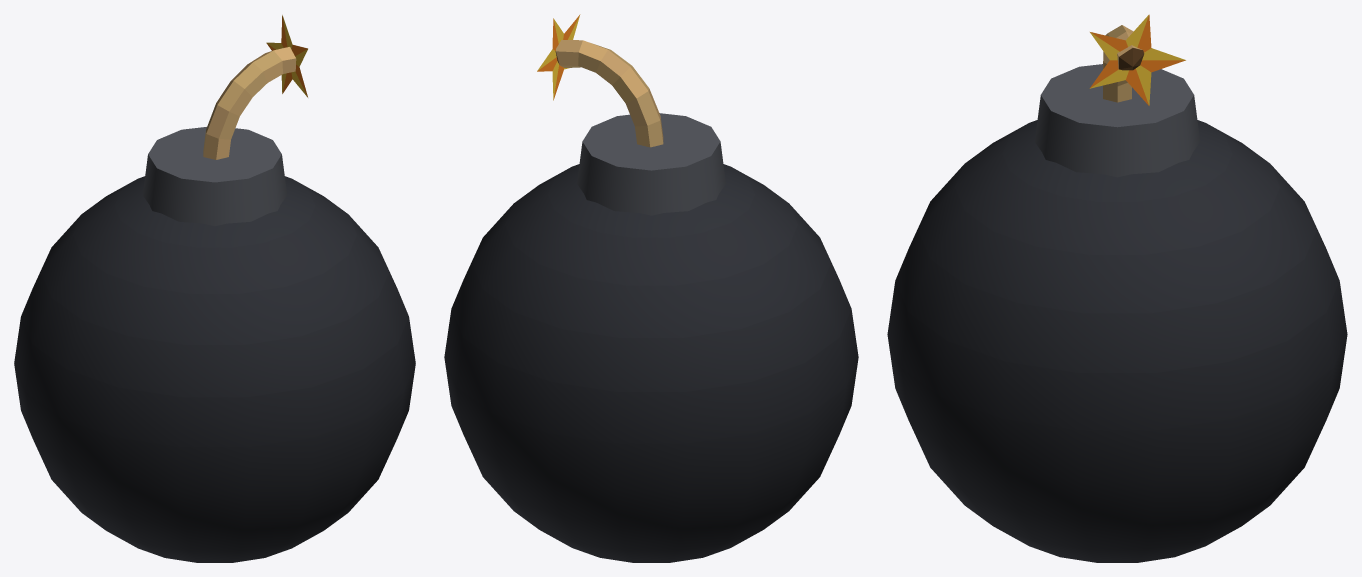
File: bomb.glb
The picture shows the model from 3 angles, left to right: view 1: azimuth 30°, elevation 25°; view 2: azimuth 150°, elevation 25°; view 3: azimuth 270°, elevation 25°; orthographic projection. The views are drawn at different scales.
Visible parts, largest first — view 1: Bomb, Fuse, Spark; view 2: Bomb, Fuse, Spark; view 3: Bomb, Spark, Fuse.
Part boxes in pixels (x1,y1,x2,y2): Bomb: (14, 127, 415, 562); Fuse: (203, 47, 296, 159); Spark: (266, 15, 307, 97); Bomb: (444, 113, 858, 562); Fuse: (555, 40, 663, 147); Spark: (537, 14, 580, 100); Bomb: (887, 64, 1347, 562); Spark: (1089, 14, 1185, 105); Fuse: (1103, 25, 1144, 102).
Bounding box in the file's own units: 0.5909 × 0.8266 × 0.6.
